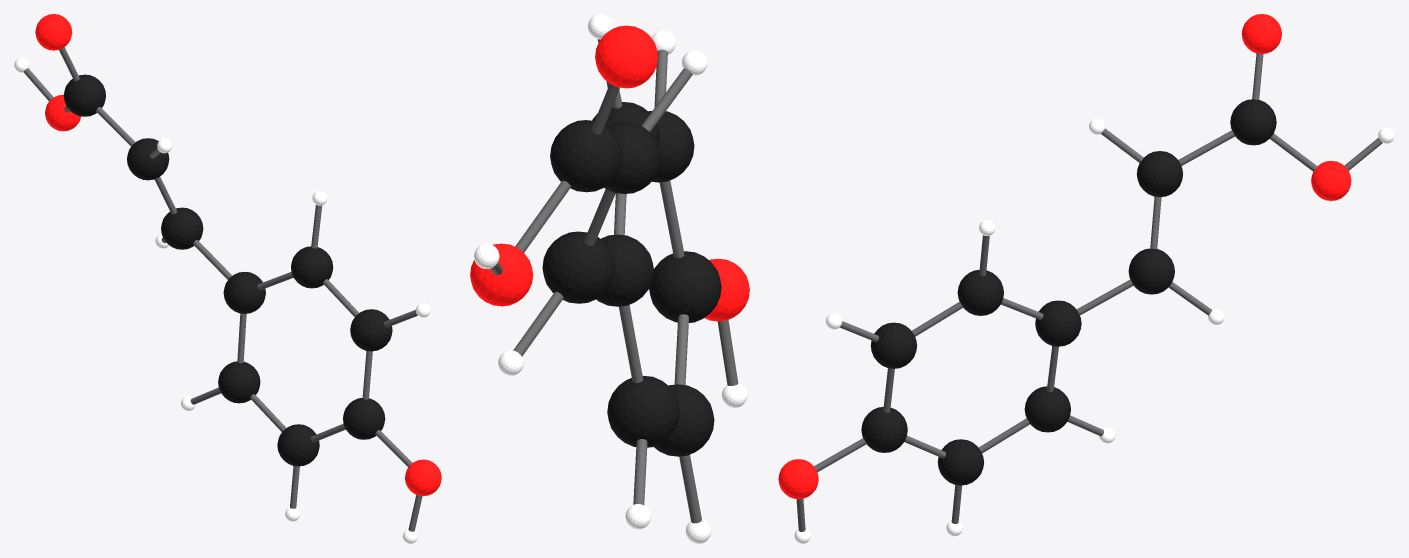
File: molecule.glb
3 renders of one model, left to right at view 1: azimuth 30°, elevation 25°; view 2: azimuth 150°, elevation 25°; view 3: azimuth 270°, elevation 25°, orthographic. The views are drawn at different scales.
Visible parts, largest first — view 1: geometry_8, geometry_11, geometry_6, geometry_10, geometry_7, geometry_4, geometry_5, geometry_1, geometry_3, geometry_0, geometry_9, geometry_2; view 2: geometry_11, geometry_1, geometry_4, geometry_8, geometry_0, geometry_5, geometry_3, geometry_2, geometry_10, geometry_7, geometry_9, geometry_21 (+21 smaller); view 3: geometry_1, geometry_4, geometry_3, geometry_11, geometry_8, geometry_5, geometry_10, geometry_6, geometry_7, geometry_9, geometry_0, geometry_2.
Boxes of the visible parts, box(x1,y1,x2,y2) form: geometry_8: box(343, 398, 385, 439); geometry_11: box(218, 361, 260, 403); geometry_6: box(291, 246, 333, 288); geometry_10: box(277, 424, 319, 466); geometry_7: box(350, 309, 392, 351); geometry_4: box(161, 207, 203, 249); geometry_5: box(223, 272, 265, 313); geometry_1: box(63, 74, 105, 116); geometry_3: box(127, 138, 169, 180); geometry_0: box(35, 14, 72, 50); geometry_9: box(405, 459, 441, 495); geometry_2: box(45, 94, 80, 131); geometry_11: box(607, 375, 679, 447); geometry_1: box(550, 120, 622, 192); geometry_4: box(542, 231, 615, 303); geometry_8: box(649, 251, 721, 322); geometry_0: box(595, 25, 658, 88); geometry_5: box(596, 234, 653, 306); geometry_3: box(604, 122, 660, 193); geometry_2: box(470, 243, 533, 306); geometry_10: box(653, 384, 714, 456); geometry_7: box(648, 111, 694, 182); geometry_9: box(704, 258, 749, 321); geometry_21: box(515, 180, 571, 252); geometry_1: box(1230, 99, 1276, 145); geometry_4: box(1128, 248, 1174, 294); geometry_3: box(1136, 151, 1182, 196); geometry_11: box(1024, 386, 1070, 432); geometry_8: box(861, 407, 907, 452); geometry_5: box(1035, 300, 1081, 346); geometry_10: box(937, 439, 984, 485); geometry_6: box(957, 270, 1003, 315); geometry_7: box(870, 322, 917, 368); geometry_9: box(778, 459, 818, 499); geometry_0: box(1241, 14, 1281, 53); geometry_2: box(1311, 161, 1351, 200).
Bounding box in the file's own units: 0.1058 × 0.2193 × 0.2621.
